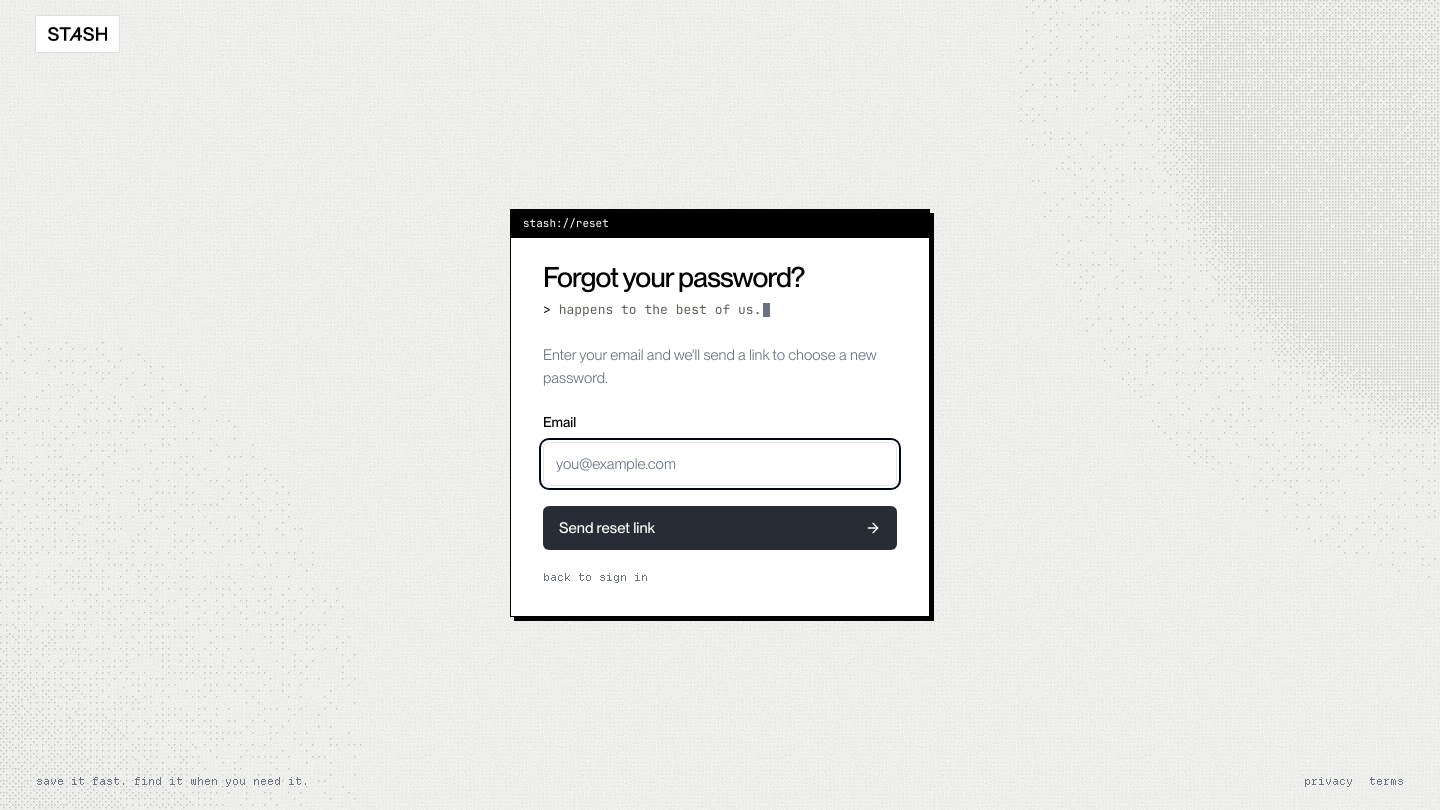
Auth — forgot password › sends the reset email with the app redirect and confirms without leaking existence
The width and height of the screenshot is (1440, 810).
In the field labelled "Email": (720, 464) [543, 442, 897, 486], type "will@example.com"
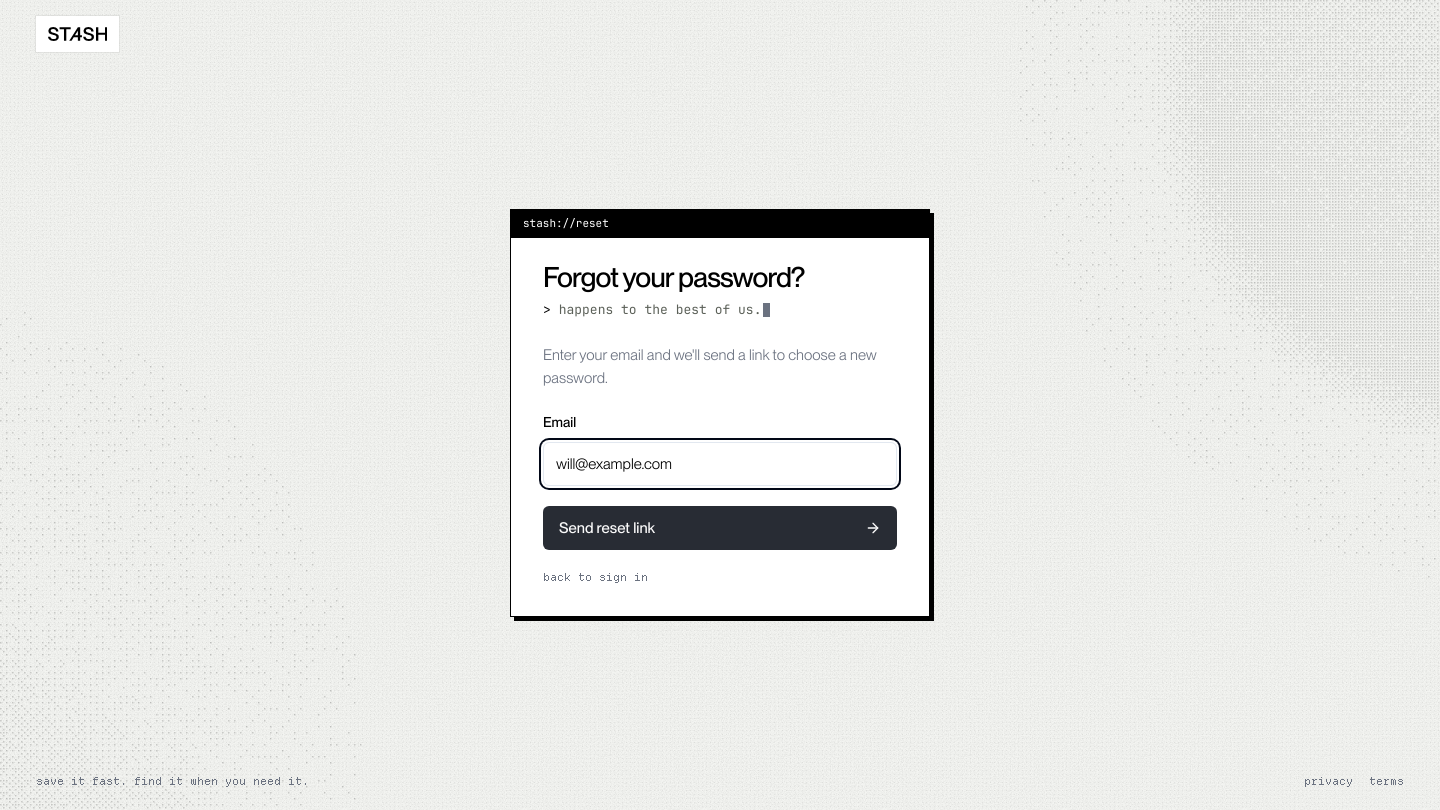
Click the button "Send reset link": (607, 528) [543, 506, 897, 550]
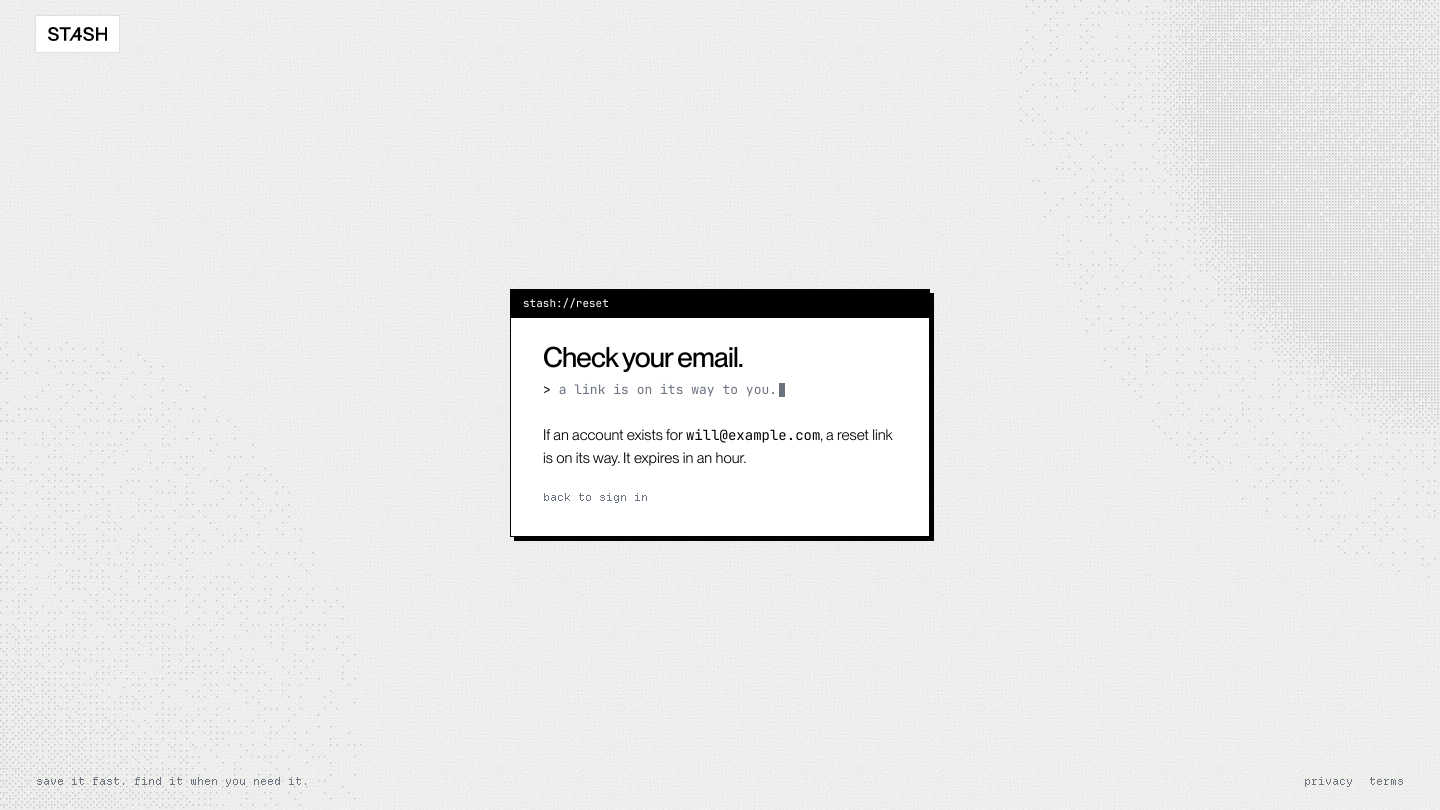
Expected: the text "will@example.com" is shown, [686, 426, 820, 444]
Expected: the heading "Check your email." is shown, [543, 340, 743, 374]
Expected: the text "If an account exists" is shown, [543, 426, 686, 444]
